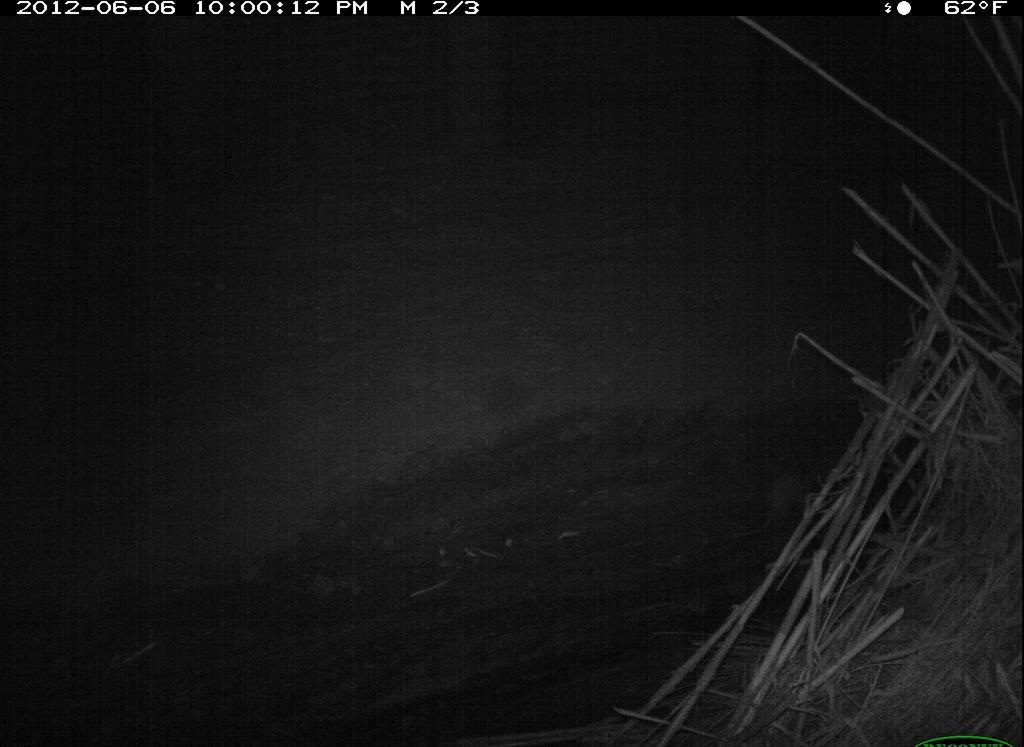opossum: (721, 457, 824, 541)
